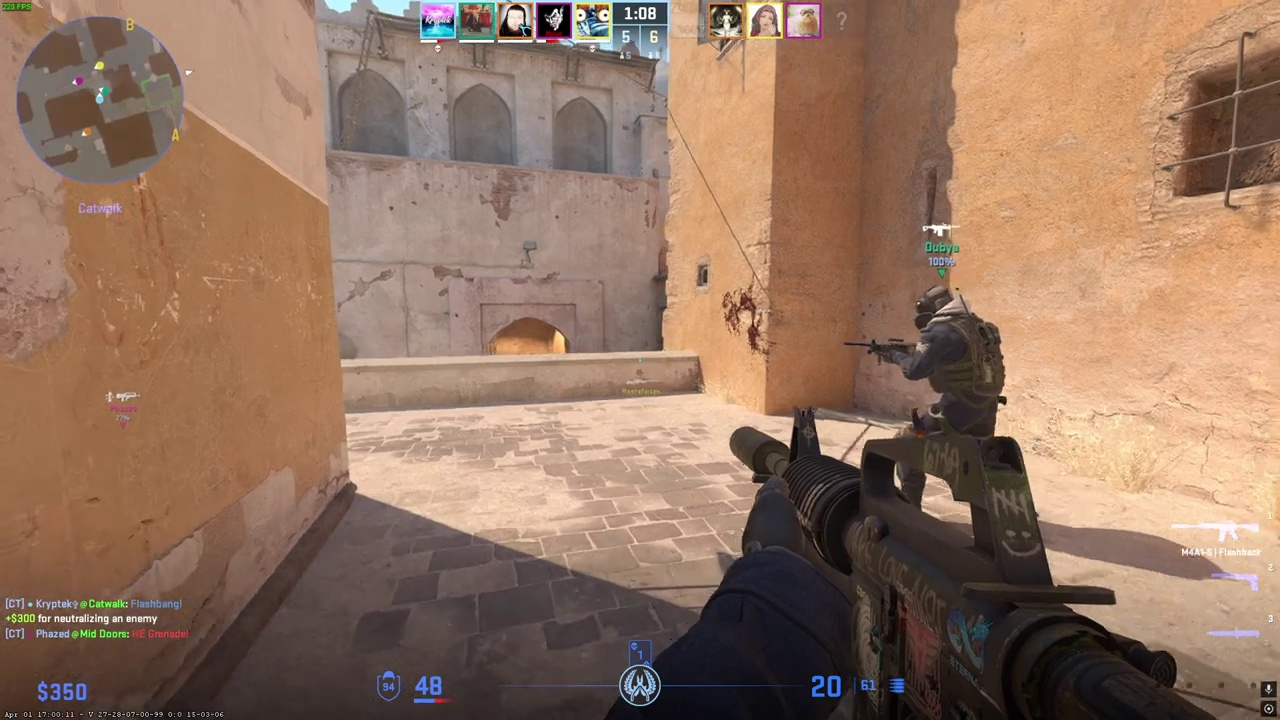CT: (910, 284, 1005, 438)
